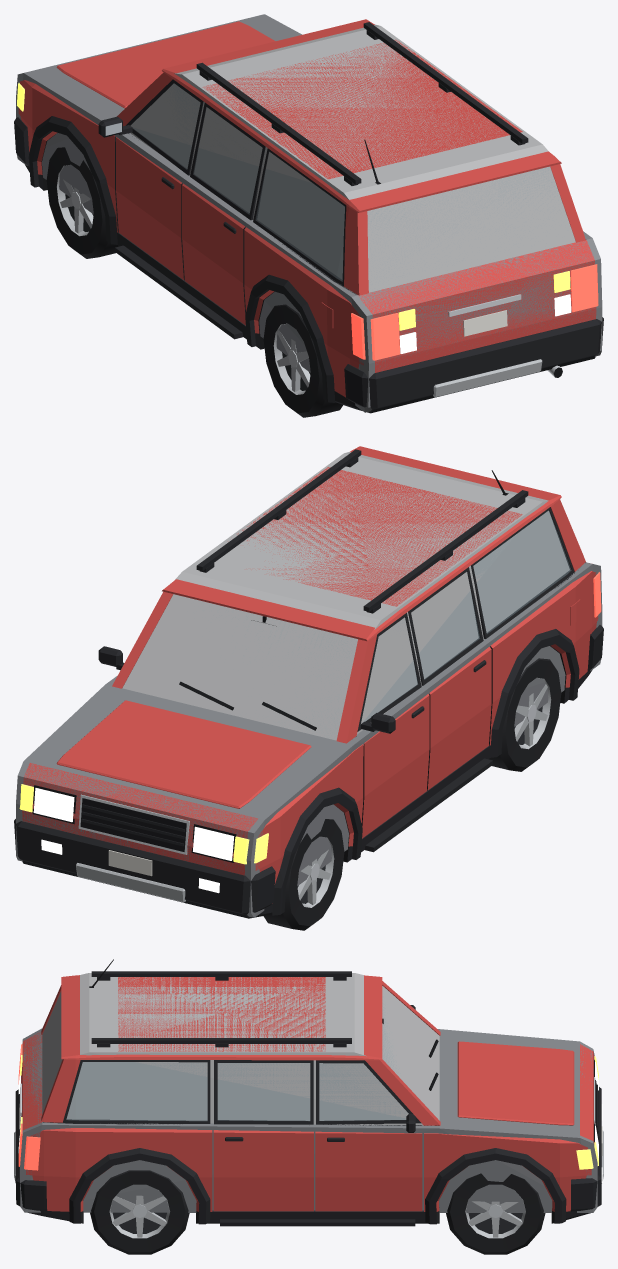
Rendered from car_suv.glb.
3 renders of one model, top to bottom at view 1: azimuth 30°, elevation 25°; view 2: azimuth 150°, elevation 25°; view 3: azimuth 270°, elevation 25°, orthographic. The views are drawn at different scales.
Parts seen in each view (by area): view 1: car_suv__body, car_suv__col_cabin, car_suv__col_body, car_suv__door_rl, car_suv__door_fl, car_suv__wheel_rl, car_suv__wheel_fl; view 2: car_suv__body, car_suv__col_cabin, car_suv__col_body, car_suv__door_rl, car_suv__door_fl, car_suv__wheel_rl, car_suv__wheel_fl; view 3: car_suv__body, car_suv__col_cabin, car_suv__col_body, car_suv__door_rr, car_suv__door_fr, car_suv__wheel_rr, car_suv__wheel_fr.
Boxes of the visible parts, x1,y1,x2,y2 form: car_suv__body: (14, 19, 603, 413); car_suv__col_cabin: (130, 24, 575, 292); car_suv__col_body: (16, 14, 602, 412); car_suv__door_rl: (182, 102, 265, 325); car_suv__door_fl: (98, 79, 203, 280); car_suv__wheel_rl: (263, 304, 342, 417); car_suv__wheel_fl: (46, 147, 119, 258); car_suv__body: (14, 446, 603, 918); car_suv__col_cabin: (122, 452, 569, 740); car_suv__col_body: (16, 562, 602, 917); car_suv__door_rl: (408, 567, 491, 790); car_suv__door_fl: (357, 613, 429, 838); car_suv__wheel_rl: (489, 658, 561, 771); car_suv__wheel_fl: (263, 819, 344, 930); car_suv__body: (14, 959, 603, 1226); car_suv__col_cabin: (42, 973, 439, 1125); car_suv__col_body: (20, 1028, 597, 1212); car_suv__door_rr: (213, 1060, 313, 1211); car_suv__door_fr: (315, 1060, 422, 1211); car_suv__wheel_rr: (90, 1170, 189, 1254); car_suv__wheel_fr: (446, 1173, 545, 1254).
Size of what is drawn, in the model's own units: 2.31 by 2.04 by 4.89.
9 materials, 2 textured.
